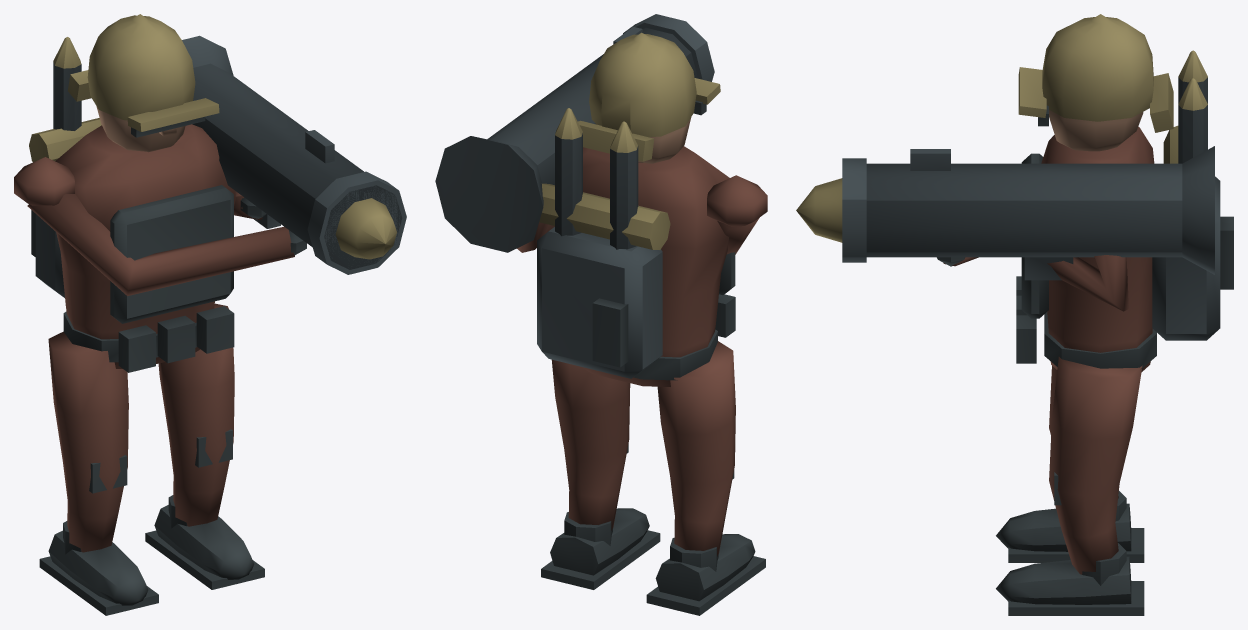
File: rocketeer.glb
The picture shows the model from 3 angles, left to right: view 1: azimuth 30°, elevation 25°; view 2: azimuth 150°, elevation 25°; view 3: azimuth 270°, elevation 25°; orthographic projection. The views are drawn at different scales.
Visible parts, largest first — view 1: Uniform, Weapon, Gear, Helmet, LeftLeg limb, RightLeg limb, LeftLeg boot, RightLeg boot, Skin; view 2: Weapon, Uniform, Helmet, LeftLeg limb, RightLeg limb, RightLeg boot, LeftLeg boot, Gear, Skin; view 3: Weapon, Helmet, RightLeg limb, Uniform, RightLeg boot, Gear, LeftLeg boot, Skin.
Part boxes in pixels (x1,y1,x2,y2): Uniform: (14, 124, 294, 368); Weapon: (35, 35, 406, 297); Gear: (31, 116, 306, 372); Helmet: (29, 14, 396, 259); LeftLeg limb: (48, 331, 128, 552); RightLeg limb: (158, 303, 234, 526); LeftLeg boot: (39, 455, 158, 615); RightLeg boot: (145, 429, 264, 589); Skin: (96, 106, 185, 152); Weapon: (435, 14, 714, 378); Uniform: (517, 146, 767, 386); Helmet: (539, 32, 720, 249); LeftLeg limb: (657, 341, 735, 556); RightLeg limb: (551, 359, 630, 530); RightLeg boot: (541, 444, 660, 589); LeftLeg boot: (646, 470, 765, 615); Gear: (592, 100, 735, 380); Skin: (638, 117, 691, 163); Weapon: (842, 77, 1220, 340); Helmet: (796, 14, 1207, 242); RightLeg limb: (1049, 357, 1142, 574); Uniform: (943, 126, 1154, 372); RightLeg boot: (996, 472, 1144, 615); Gear: (937, 105, 1233, 369); LeftLeg boot: (996, 491, 1144, 562); Skin: (1049, 110, 1143, 151).
Size of the model in its own units: 1.17 by 2.29 by 1.61.
